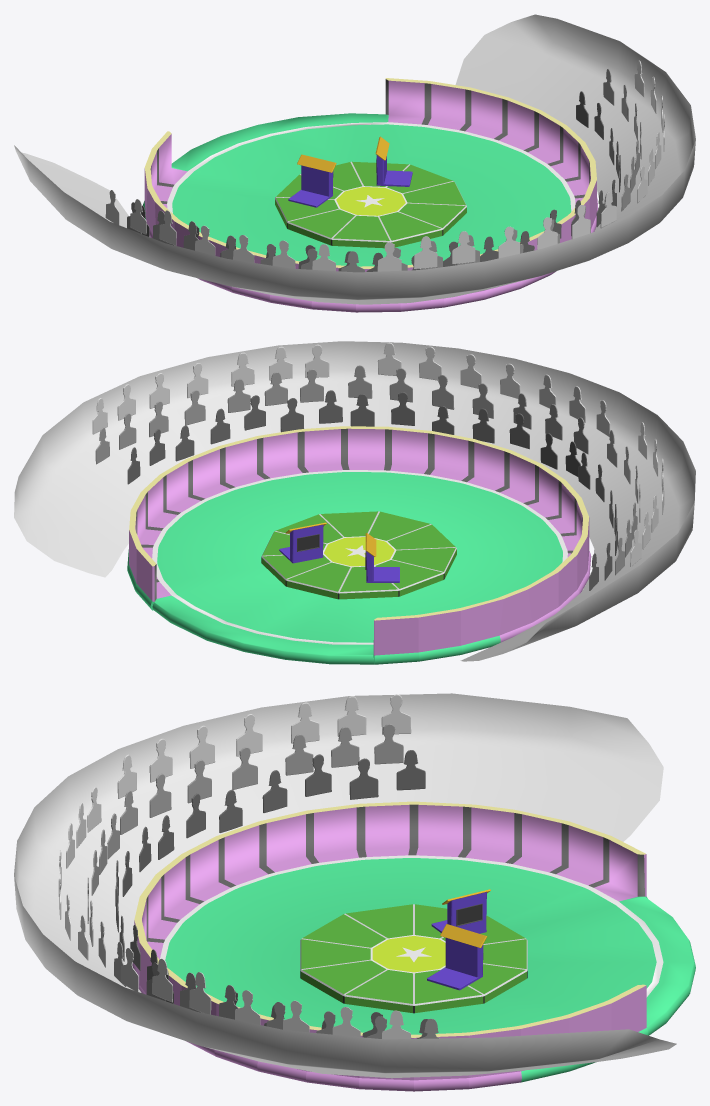
The model's file is Competition Platform 1.fbx.
3 renders of one model, top to bottom at view 1: azimuth 30°, elevation 25°; view 2: azimuth 150°, elevation 25°; view 3: azimuth 270°, elevation 25°, orthographic. The views are drawn at different scales.
Visible parts, largest first — view 1: Big Platform, Plane, Small Platform, Big Platform.001, Big Platform.002, Big Platform.003, Course 2, Course 1; view 2: Big Platform, Plane, Small Platform, Big Platform.003, Big Platform.002, Big Platform.001, Course 1, Course 2; view 3: Big Platform, Plane, Small Platform, Big Platform.001, Big Platform.002, Big Platform.003, Course 1, Course 2.
Boxes of the visible parts, left/top/right/bottom form: Big Platform: left=143, top=78, right=598, bottom=312; Plane: left=14, top=14, right=695, bottom=304; Small Platform: left=275, top=161, right=466, bottom=248; Big Platform.001: left=105, top=60, right=664, bottom=271; Big Platform.002: left=127, top=69, right=641, bottom=272; Big Platform.003: left=141, top=91, right=620, bottom=271; Course 2: left=288, top=154, right=336, bottom=207; Course 1: left=375, top=136, right=412, bottom=186; Big Platform: left=127, top=426, right=591, bottom=664; Plane: left=14, top=341, right=695, bottom=661; Small Platform: left=261, top=511, right=456, bottom=599; Big Platform.003: left=127, top=390, right=617, bottom=590; Big Platform.002: left=95, top=365, right=640, bottom=575; Big Platform.001: left=92, top=342, right=664, bottom=566; Course 1: left=279, top=522, right=326, bottom=563; Course 2: left=365, top=533, right=399, bottom=582; Big Platform: left=132, top=801, right=695, bottom=1091; Plane: left=14, top=693, right=676, bottom=1078; Small Platform: left=300, top=904, right=527, bottom=1013; Big Platform.001: left=58, top=694, right=411, bottom=1039; Big Platform.002: left=87, top=723, right=439, bottom=1038; Big Platform.003: left=115, top=750, right=428, bottom=1038; Course 1: left=427, top=924, right=487, bottom=990; Course 2: left=431, top=889, right=490, bottom=933.
Bounding box in the file's own units: 2049 × 337 × 1707.
